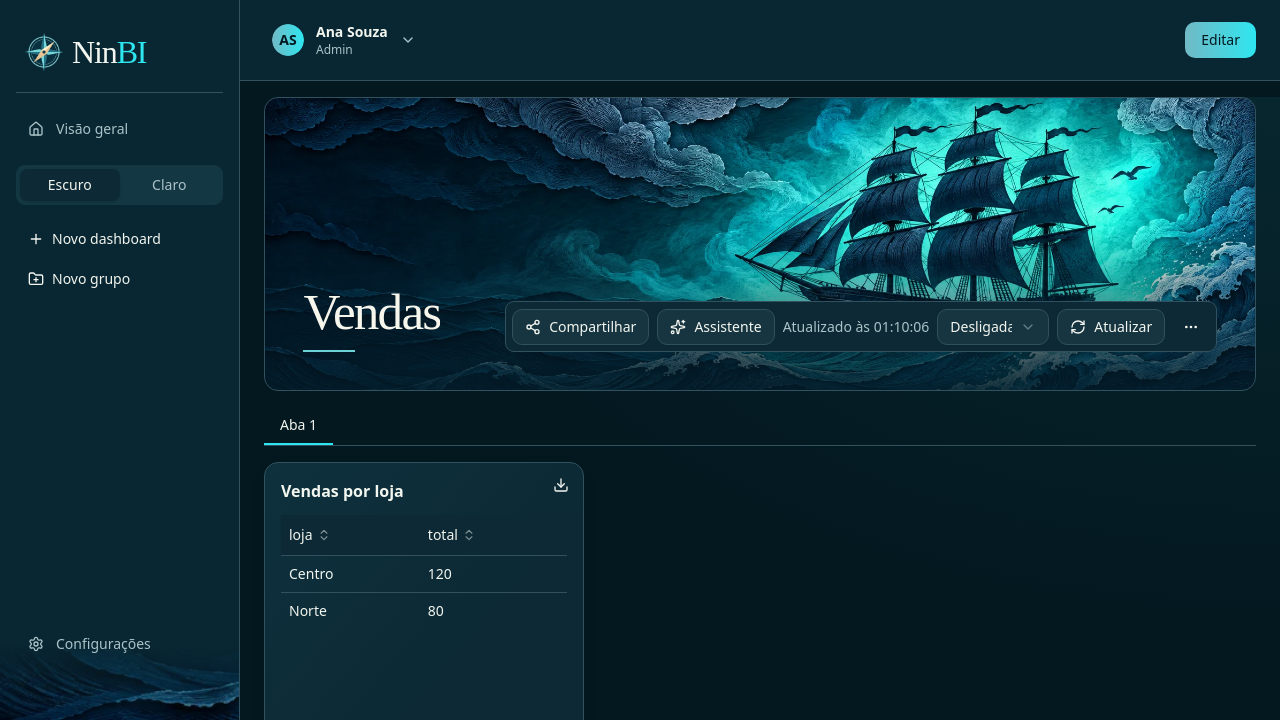
DashboardPage troca de conexão › SMG-06 Cancelar mantém a conexão anterior
Click the button "Editar". click: x=1221, y=40
box: x1=1185 y1=22 x2=1256 y2=58
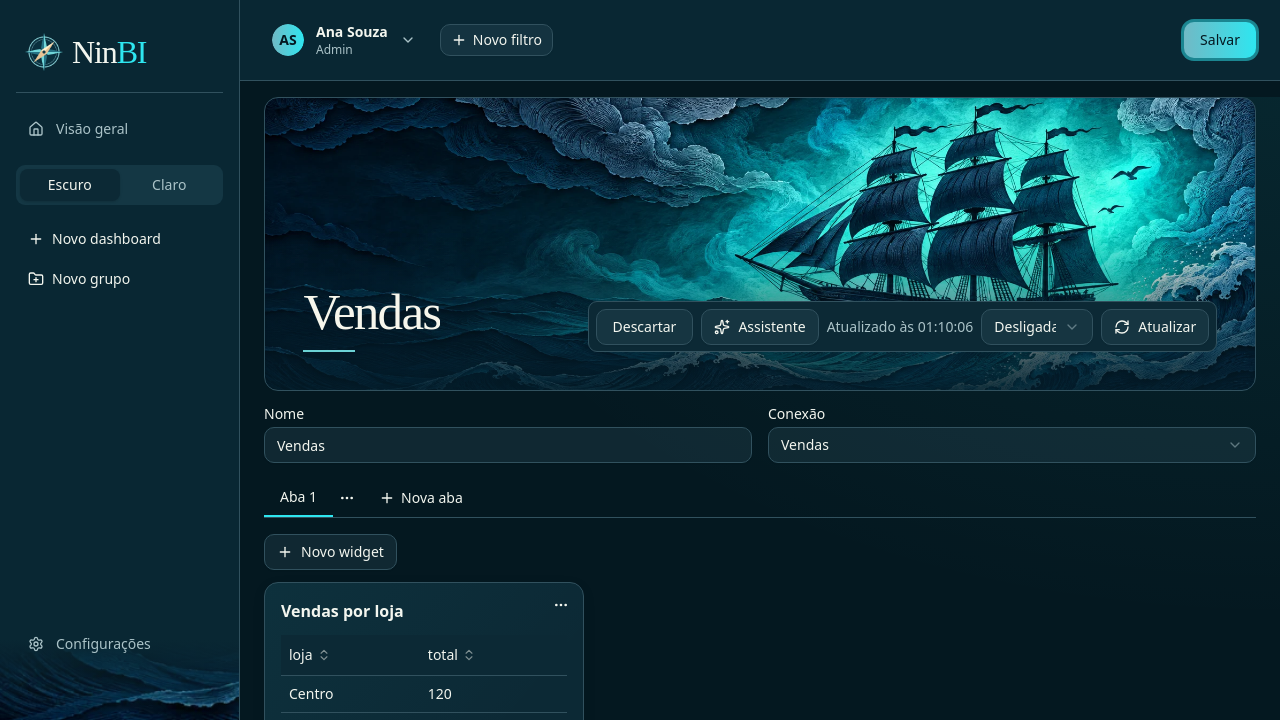
Click the dropdown named "Conexão". click: x=805, y=445
box: x1=768 y1=427 x2=1256 y2=463
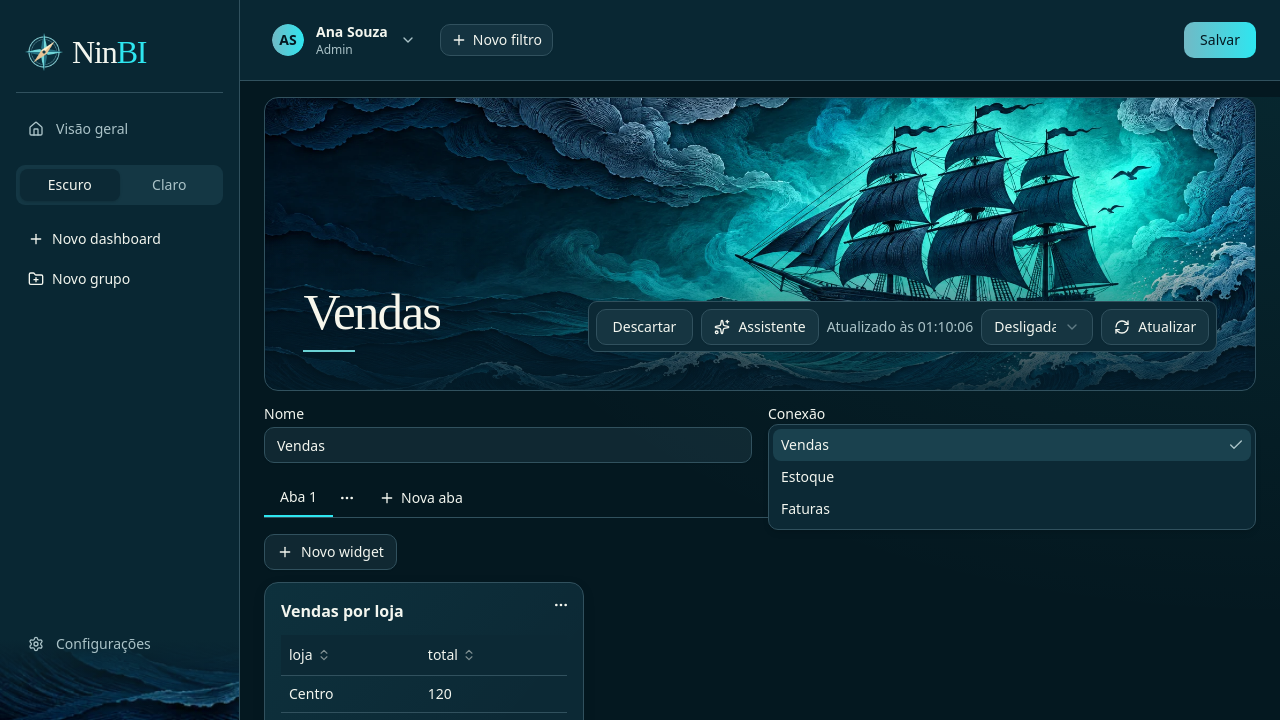
Click the option "Faturas". click: x=805, y=509
box: x1=781 y1=499 x2=830 y2=518
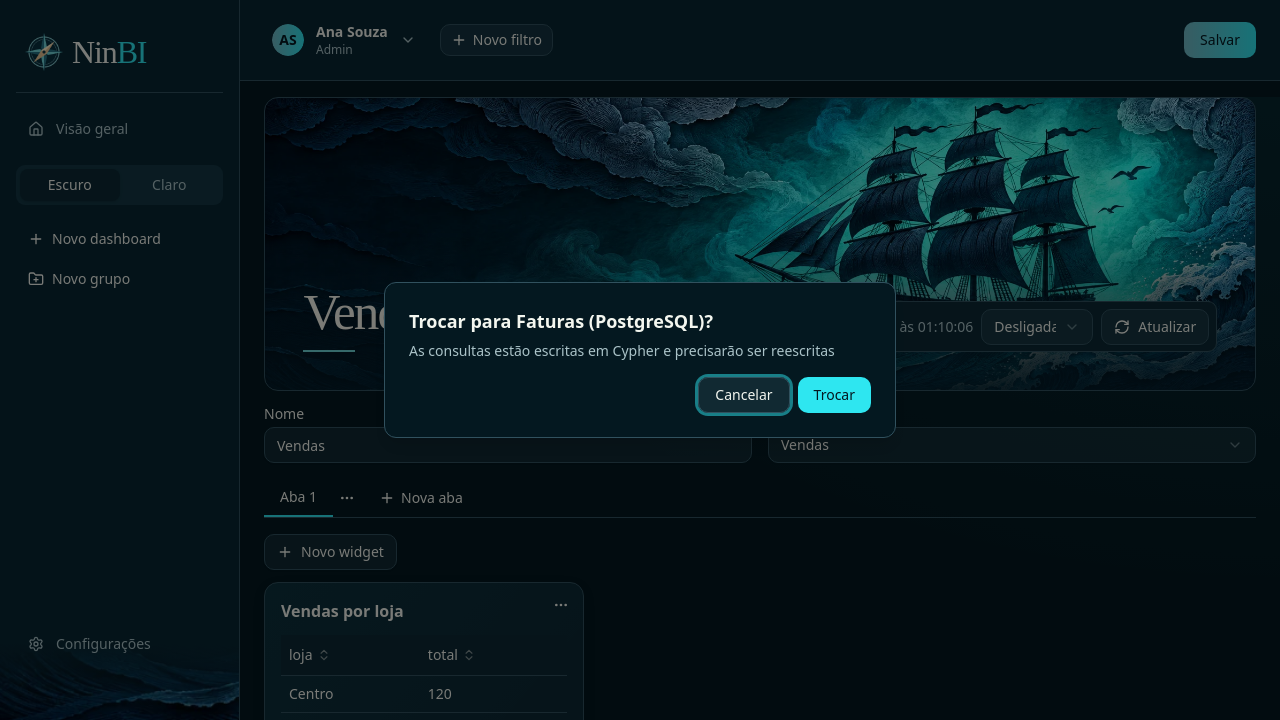
Click the button "Cancelar". click: x=744, y=395
box: x1=698 y1=377 x2=790 y2=413
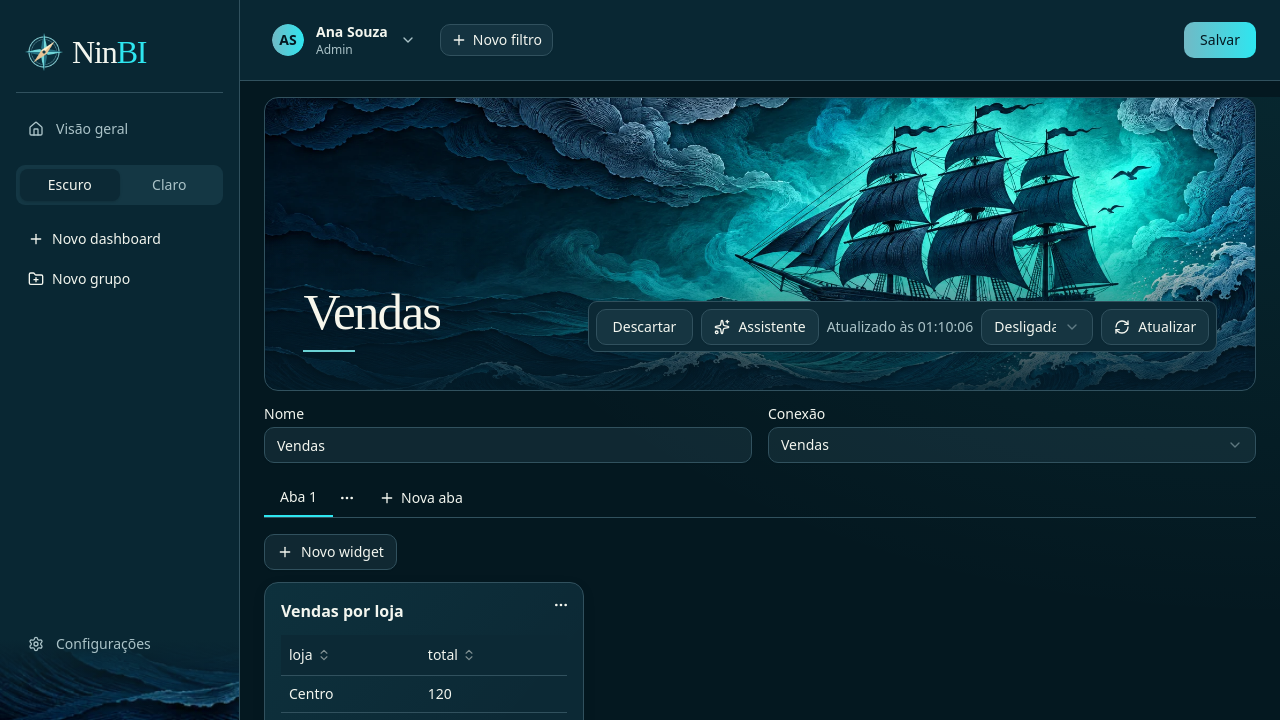
Check: the dropdown named "Conexão" reads "Vendas", box x1=768 y1=427 x2=1256 y2=463
Check: the dialog is gone
